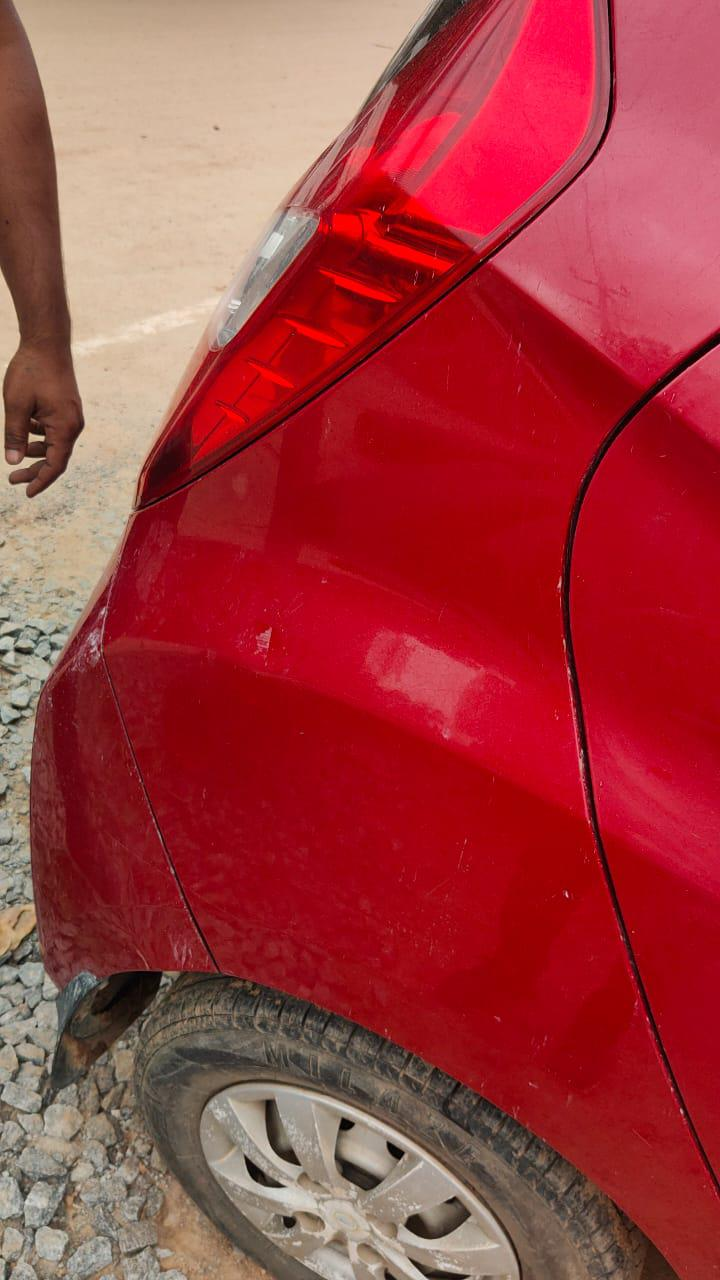rear-bumper-dent: (26, 632, 174, 1121)
